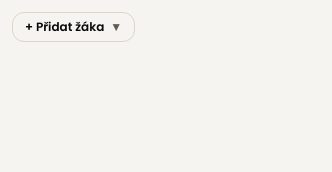
Test case: PickerMenu › says when there is nothing to pick
The width and height of the screenshot is (332, 172).
Click the button "+ Přidat žáka ▼" at (74, 27), box 12,12 -> 135,42
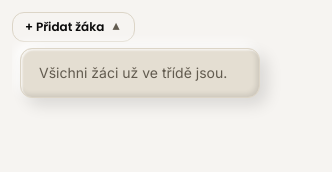
Check: the text "Všichni žáci už ve třídě jsou." is shown, box 39,64 -> 227,81
